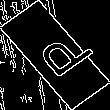P_SW: (20, 25, 90, 85)
